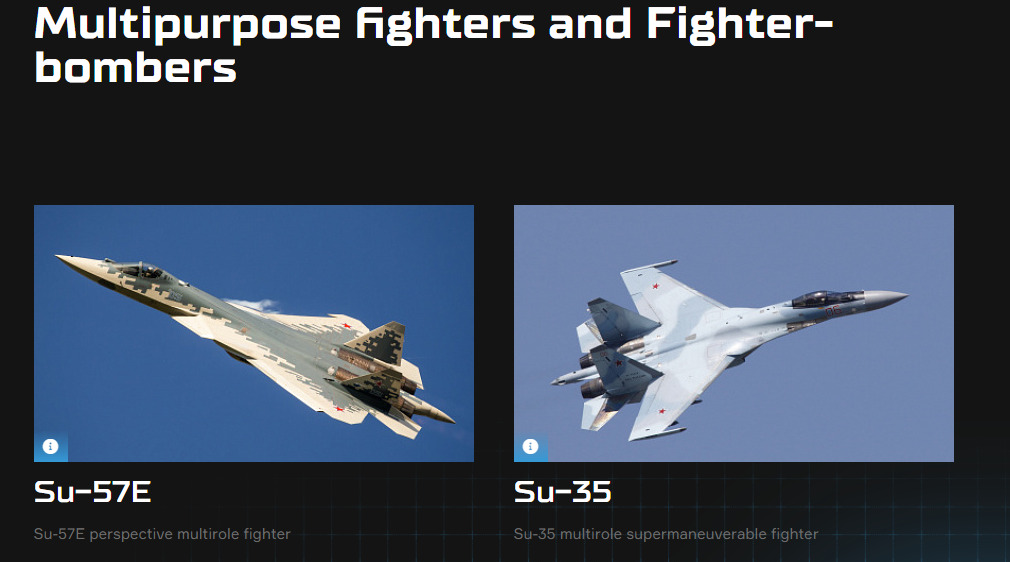Su35: (544, 251, 918, 447)
